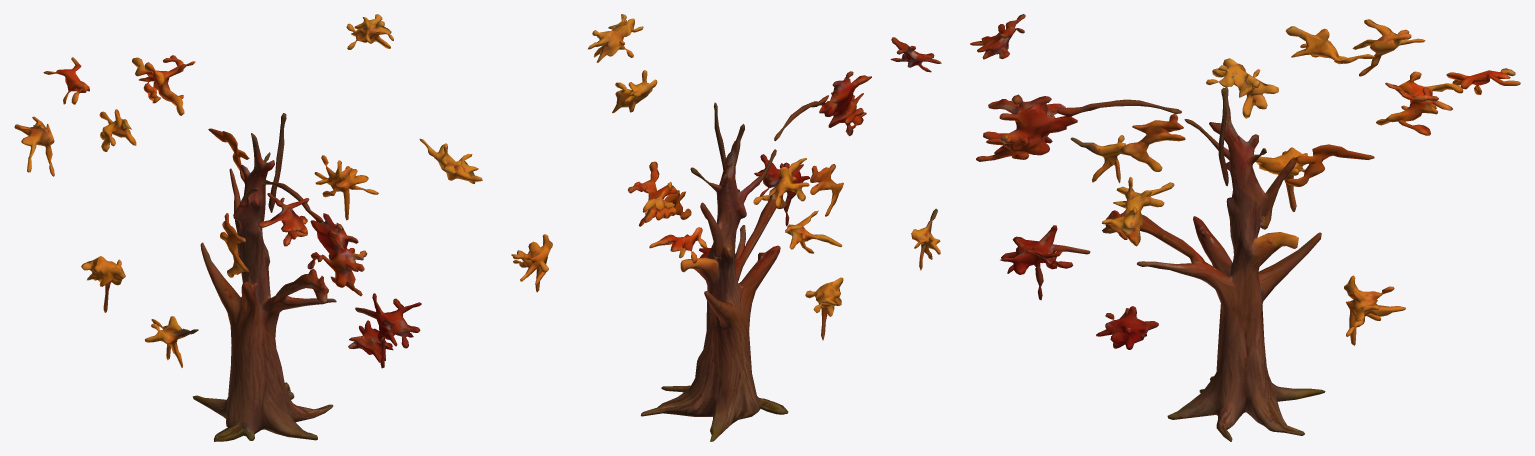
File: tree_maple_autumn.glb
The picture shows the model from 3 angles, left to right: view 1: azimuth 30°, elevation 25°; view 2: azimuth 150°, elevation 25°; view 3: azimuth 270°, elevation 25°; orthographic projection. The views are drawn at different scales.
Parts seen in each view (by area): view 1: tripo_node_547b0af4-b412-4560-9cfd-395534c16132; view 2: tripo_node_547b0af4-b412-4560-9cfd-395534c16132; view 3: tripo_node_547b0af4-b412-4560-9cfd-395534c16132.
Part boxes in pixels (x1,y1,x2,y2): tripo_node_547b0af4-b412-4560-9cfd-395534c16132: (14,14,482,441); tripo_node_547b0af4-b412-4560-9cfd-395534c16132: (511,14,941,441); tripo_node_547b0af4-b412-4560-9cfd-395534c16132: (970,14,1520,441).
Size of the model in its own units: 0.6961 by 0.7289 by 0.904.
Materials: 1 (1 with a texture image).
